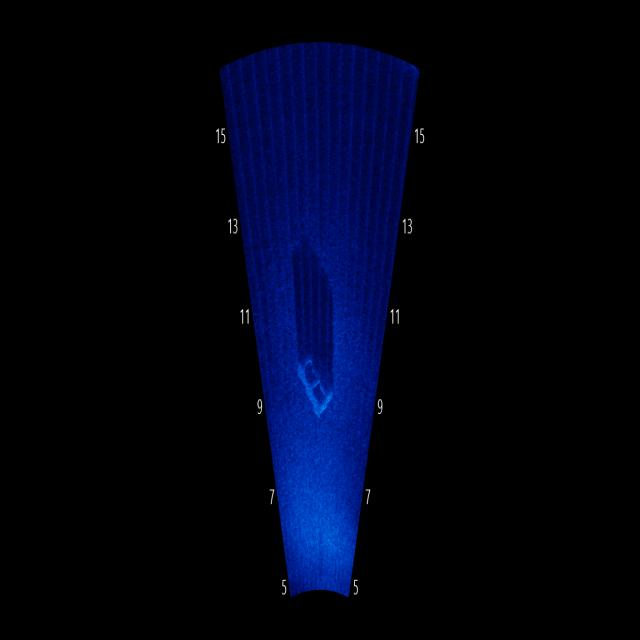square: (288, 340, 344, 427)
